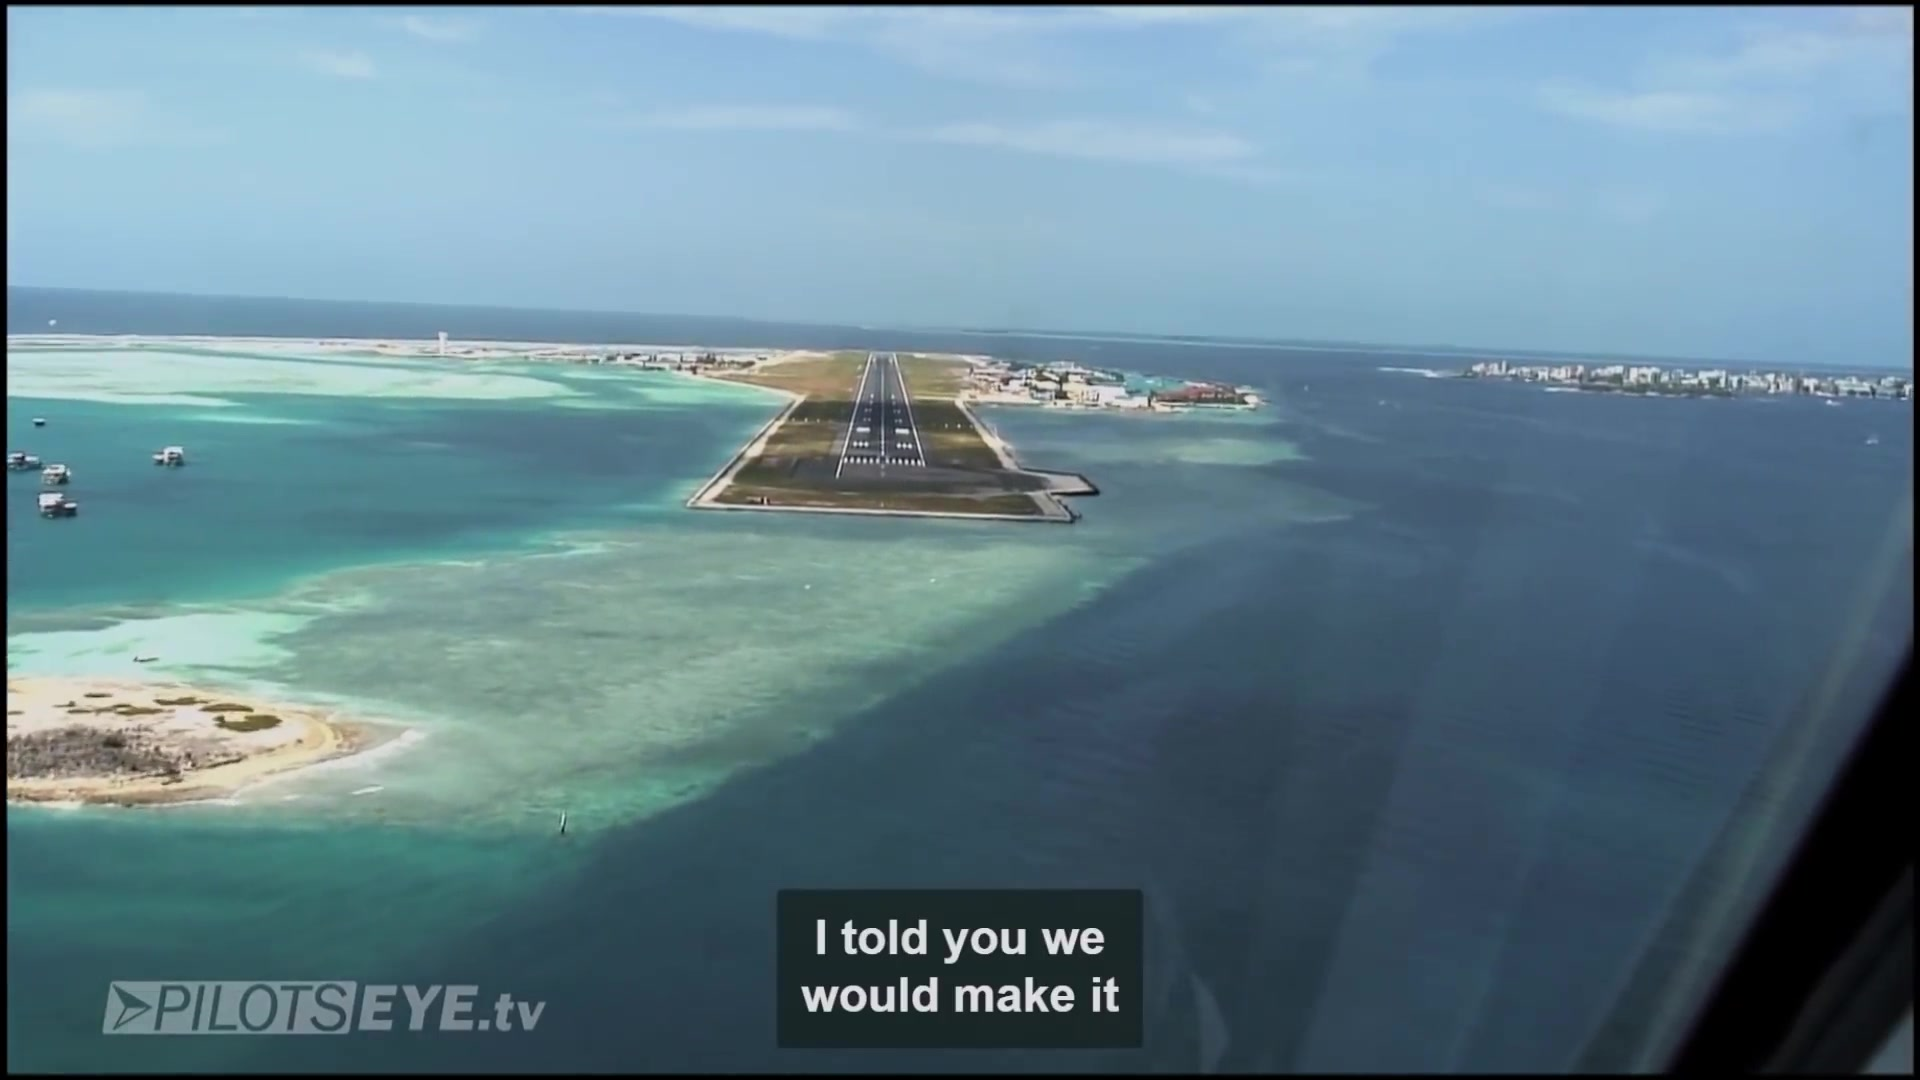entrance: (840, 454, 919, 468)
runway: (833, 353, 928, 483)
